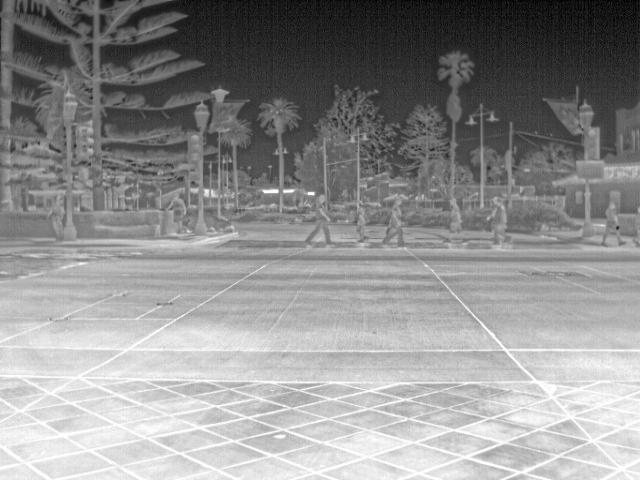person: (303, 194, 335, 249), (379, 198, 411, 247), (485, 198, 515, 244), (600, 200, 627, 246), (444, 198, 467, 246), (46, 198, 66, 239), (167, 190, 188, 223), (354, 204, 369, 244)
